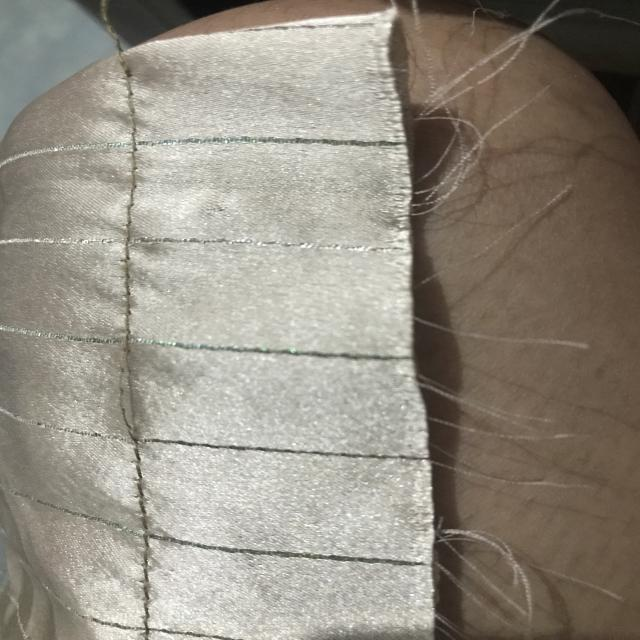good: (122, 473, 174, 577)
skip: (83, 325, 168, 445)
